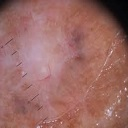Carcinoma: (25, 25, 90, 83)
